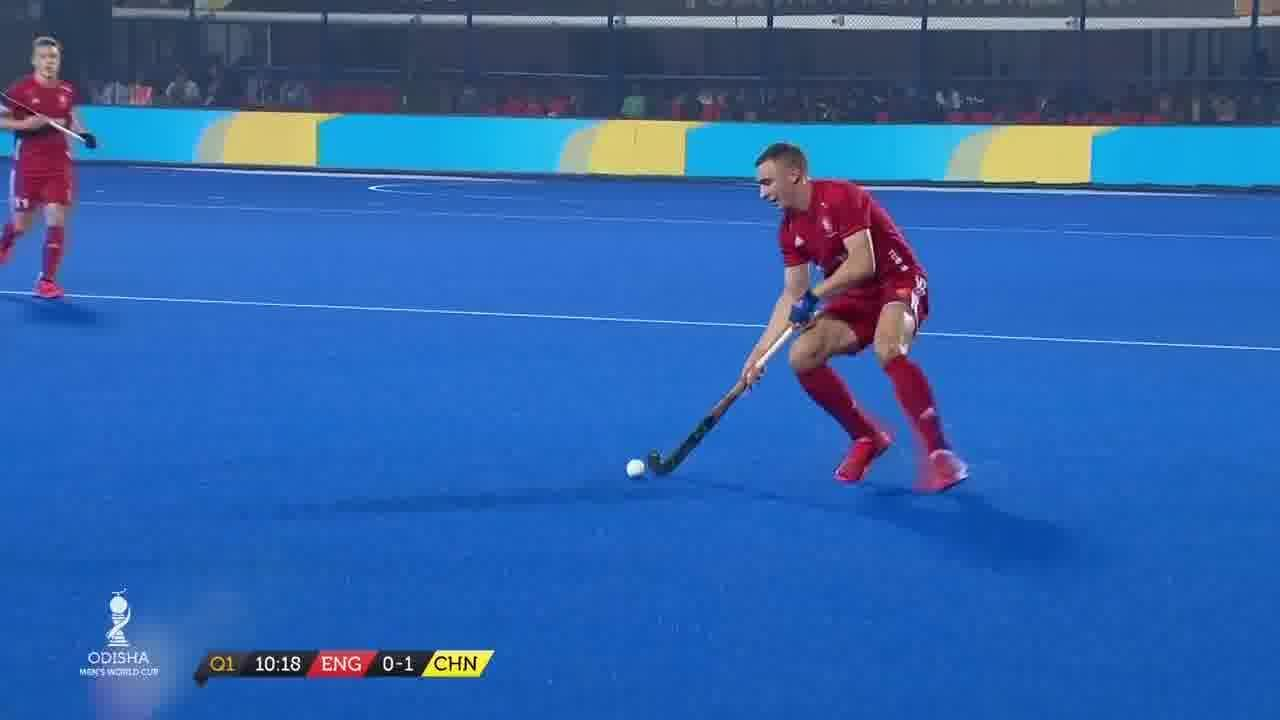ball: (627, 449, 669, 487)
